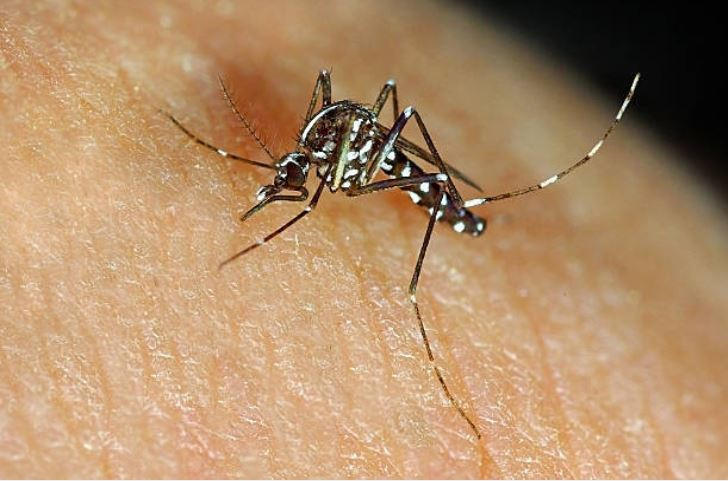dengue_mosquito: (170, 69, 640, 286)
